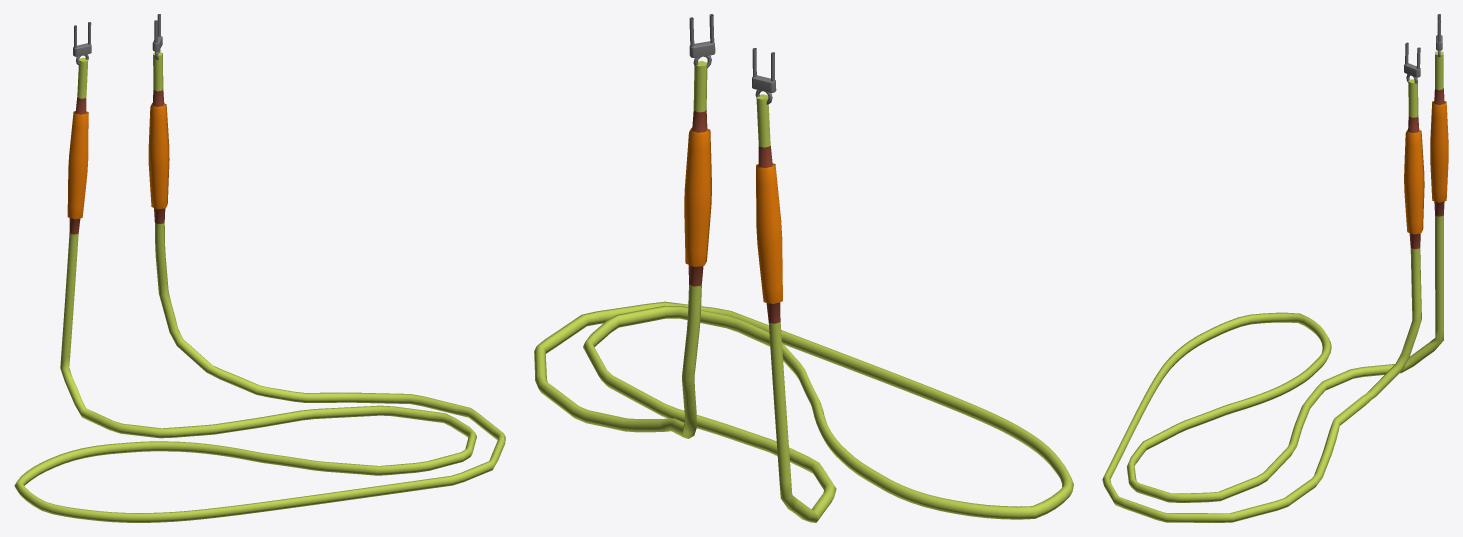
The model's file is strap5.fbx.
The picture shows the model from 3 angles, left to right: view 1: azimuth 30°, elevation 25°; view 2: azimuth 150°, elevation 25°; view 3: azimuth 270°, elevation 25°; orthographic projection. The views are drawn at different scales.
Visible parts, largest first — view 1: Strap05.001; view 2: Strap05.001; view 3: Strap05.001.
Part boxes in pixels (<box>): Strap05.001: <box>14,14,505,522</box>; Strap05.001: <box>534,14,1073,522</box>; Strap05.001: <box>1102,14,1448,522</box>.
Bounding box in the file's own units: 454 × 392 × 329.
